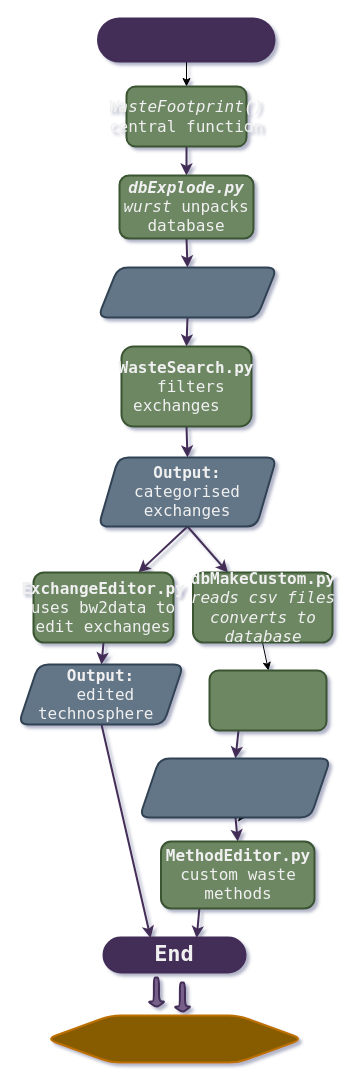
Some shapes in this 358 by 1086 pixel diagram are drawn without their labels. The centre of each missing label's shape, as x and y in pixels:
Application in LCIA: the point at 174,1038
dbExcel2BW() builds db with bw2io: the point at 267,700
Output: a 'biosphere' database: the point at 234,787
Output: a list of all exchanges: the point at 187,292
Start: the point at 185,39
